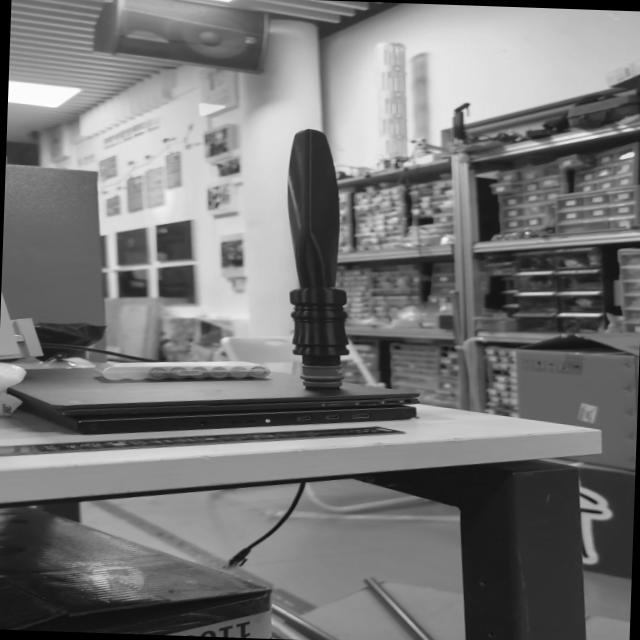base: (294, 357, 354, 396)
